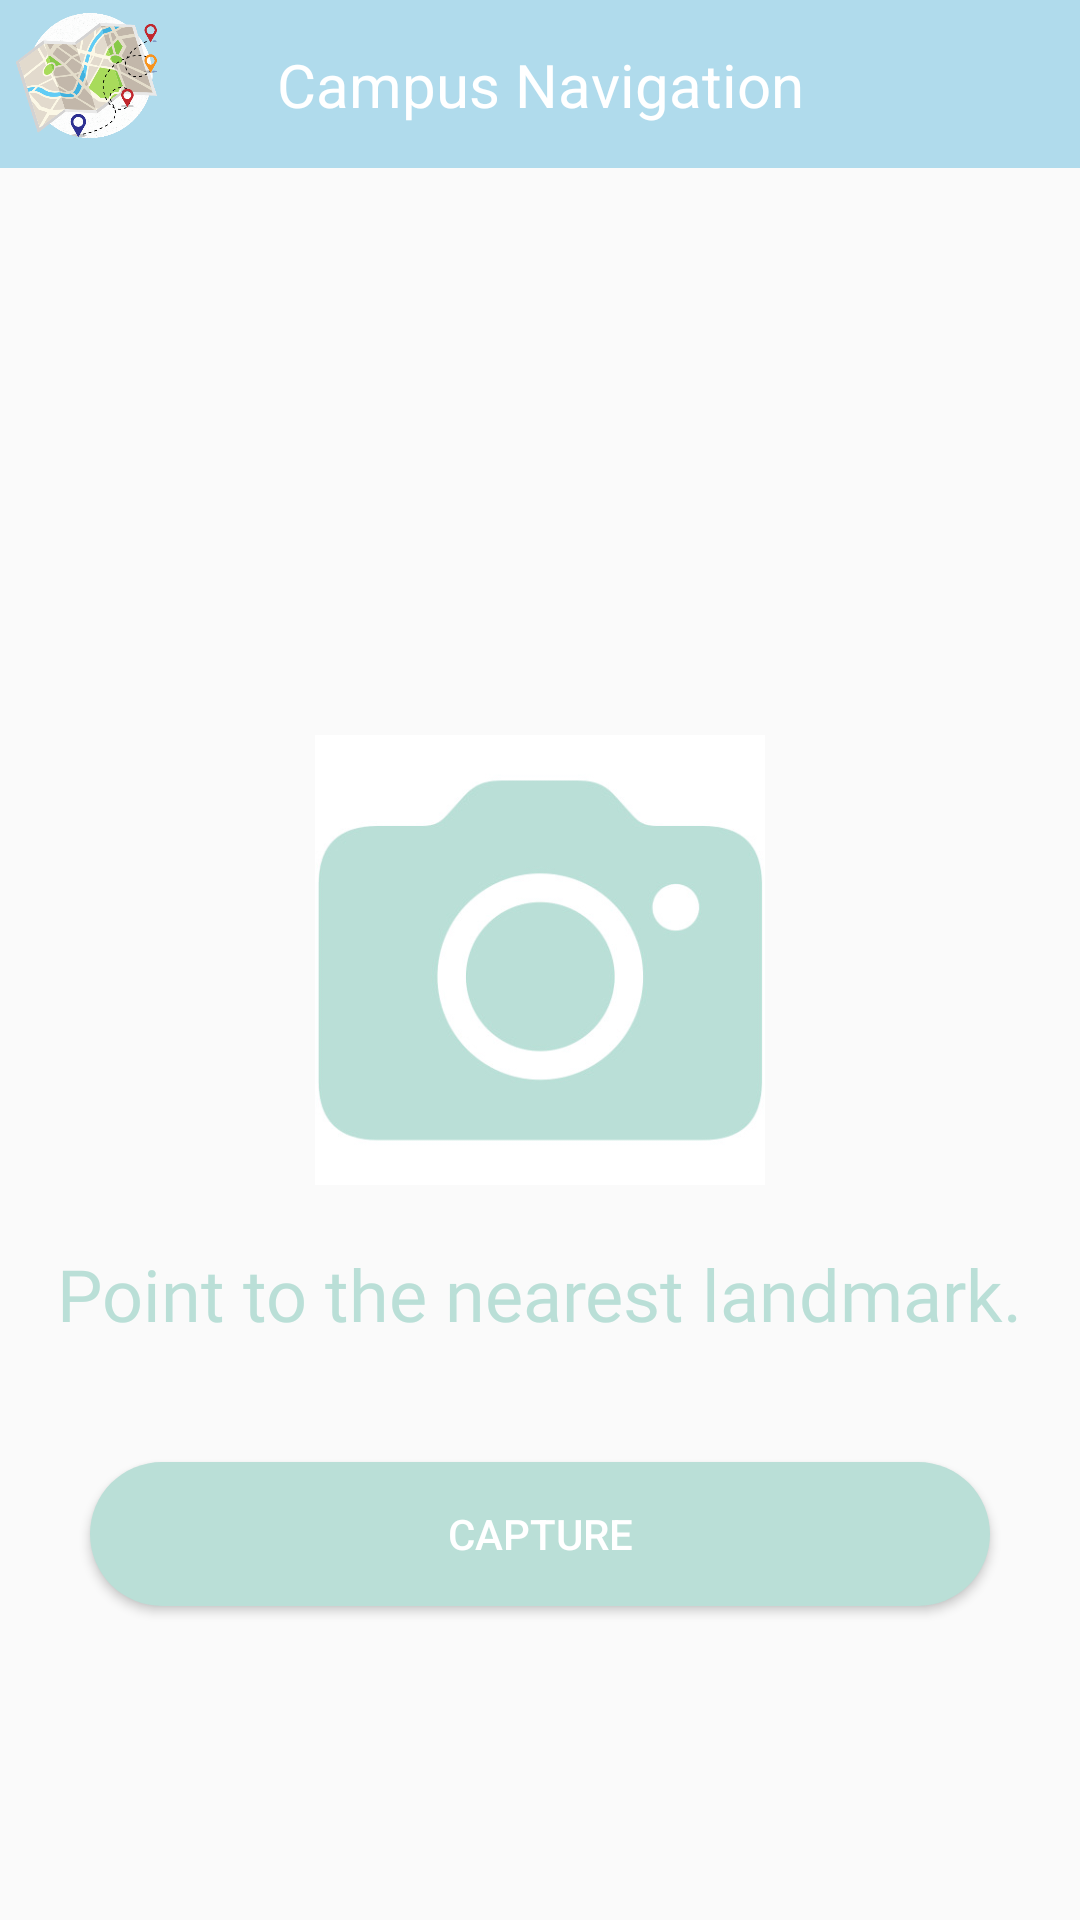

Screen size 1080*1920. Icon name, then its center in pixels as (x,y):
appicon: (86,75)
